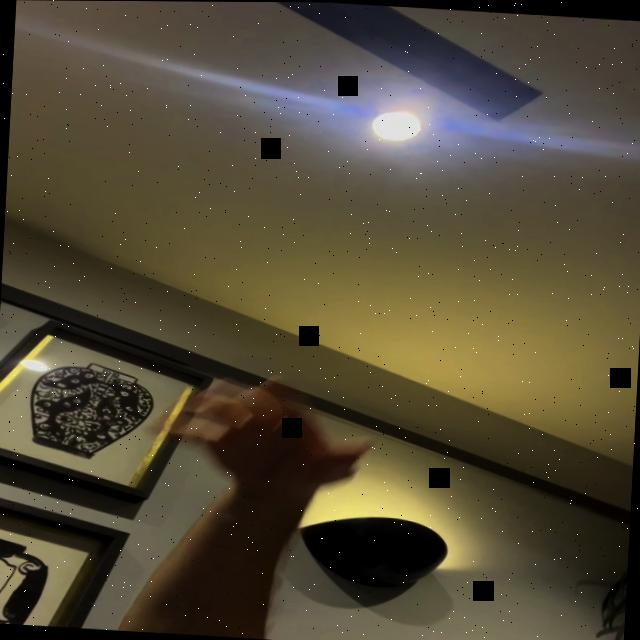Paper: (148, 372, 376, 494)
